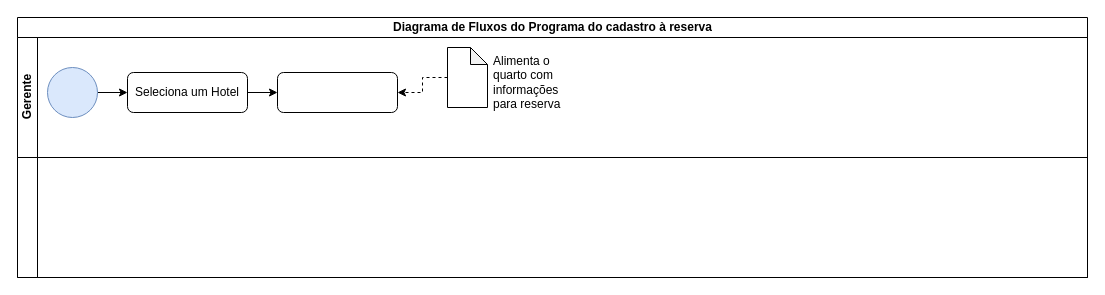
This 1105x295 diagram has some shape labels left out. Here are the shapes that lost their labels. From the top down, the centre of each, then its label:
pixel 337 92: Cadastra um quarto
pixel 552 217: Cliente
